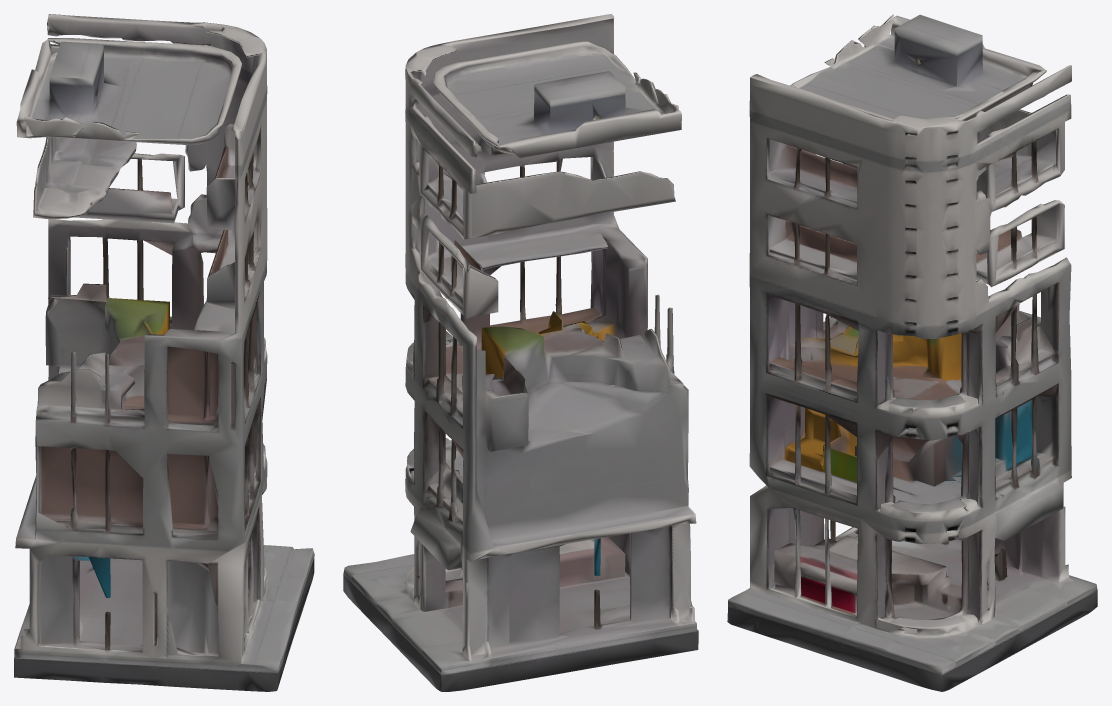
The model's file is marui.glb.
3 views of the same model, side by side, from view 1: azimuth 30°, elevation 25°; view 2: azimuth 150°, elevation 25°; view 3: azimuth 270°, elevation 25° (orthographic). The views are drawn at different scales.
Parts seen in each view (by area): view 1: tripo_node_bab22708-f2a8-4eb5-9611-9879a10c63d2; view 2: tripo_node_bab22708-f2a8-4eb5-9611-9879a10c63d2; view 3: tripo_node_bab22708-f2a8-4eb5-9611-9879a10c63d2.
Boxes of the visible parts, bbox=[...] form: tripo_node_bab22708-f2a8-4eb5-9611-9879a10c63d2: bbox=[14, 14, 314, 691]; tripo_node_bab22708-f2a8-4eb5-9611-9879a10c63d2: bbox=[343, 14, 698, 691]; tripo_node_bab22708-f2a8-4eb5-9611-9879a10c63d2: bbox=[727, 14, 1097, 691].
Bounding box in the file's own units: 0.6039 × 1 × 0.6094.
Materials: 1 (1 with a texture image).
